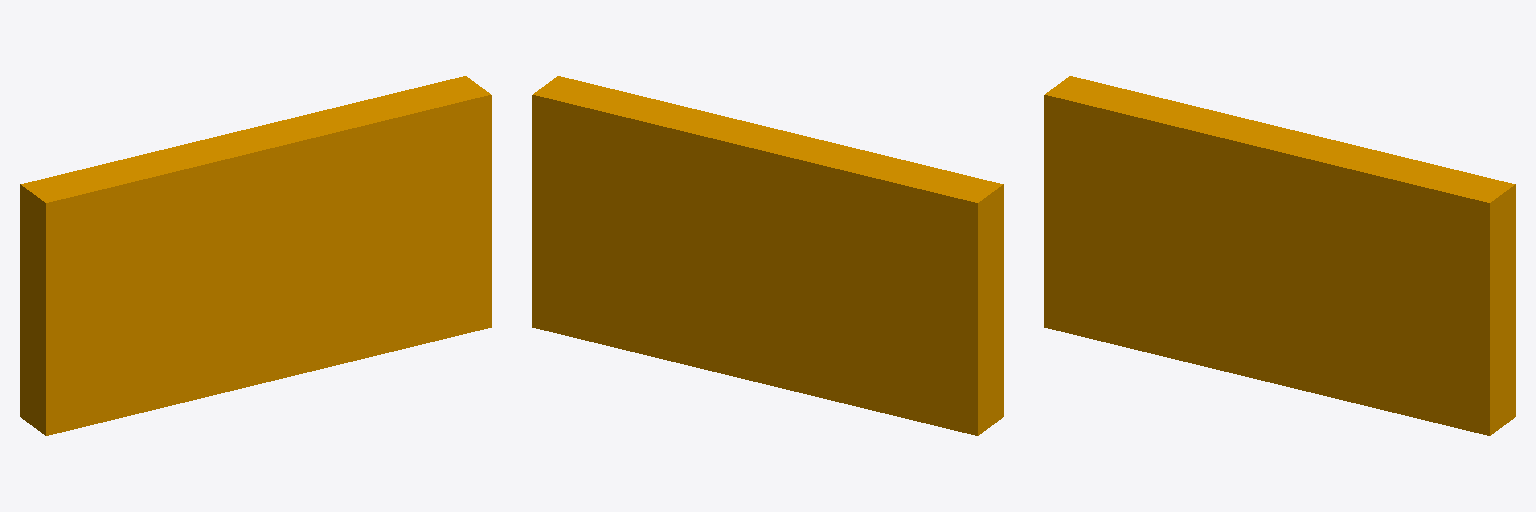
URDF robot description (bar):
<?xml version="1.0" encoding="utf-8"?>
<robot name="bar">

  <link name="bar_link">
    <inertial>
      <mass value="1000"/>
      <origin rpy="0 0 0" xyz="0 0 0"/>
      <inertia ixx="1.66667" ixy="0" ixz="0" iyy="84.1667" iyz="0" izz="84.1667"/>
    </inertial>
    <visual>
      <origin rpy="0 0 0" xyz="0 0 0"/>
      <geometry>
        <box size="1 0.1 .5"/>
      </geometry>
    </visual>
    <collision>
      <origin rpy="0 0 0" xyz="0 0 0"/>
      <geometry>
        <box size="1 0.1 .5"/>
      </geometry>
    </collision>
  </link>
  
</robot>

--- What the picture shows (computed from the rendered views, not written in the file) ---
The picture shows the robot from 3 angles, left to right: view 1: azimuth 30°, elevation 25°; view 2: azimuth 150°, elevation 25°; view 3: azimuth 330°, elevation 25°; orthographic projection.
Model bar with 1 links and 0 joints (none), rooted at bar_link, posed all joints at 0.
Visible links, largest first — view 1: bar_link; view 2: bar_link; view 3: bar_link.
Boxes of the visible links, x1,y1,x2,y2 form: bar_link: (20,76,491,435); bar_link: (532,76,1003,435); bar_link: (1044,76,1515,435).
Size in the robot's own frame: 1 by 0.1 by 0.5 metres.
Geometry: primitives only (box / cylinder / sphere), no mesh files.